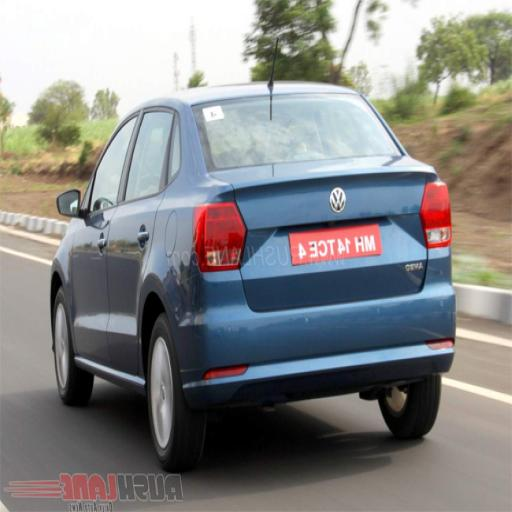License: (297, 220, 382, 273)
